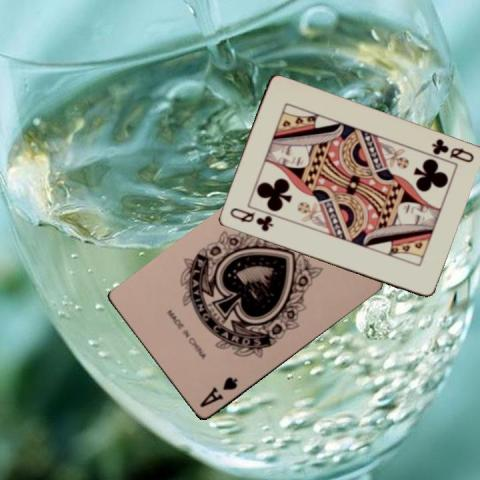As: (197, 374, 239, 409)
Qc: (428, 135, 475, 164), (226, 205, 274, 233)
